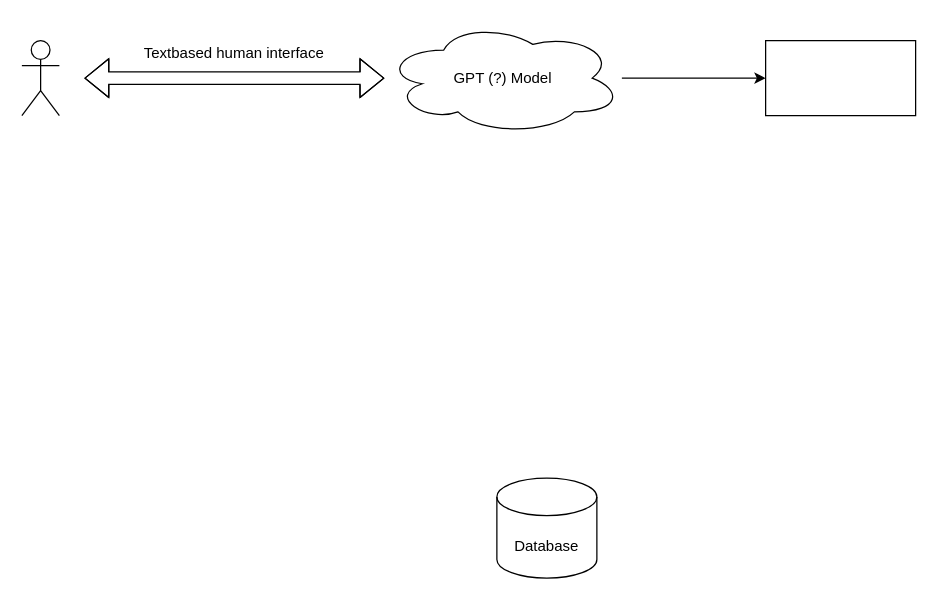
Image size: 938x600. Some labels were removed from this diagram. Here are the shapes that lost their labels. From the top down, the centre of each, then its label:
[40,77]: Actor
[840,77]: Extract information into Contextbase
